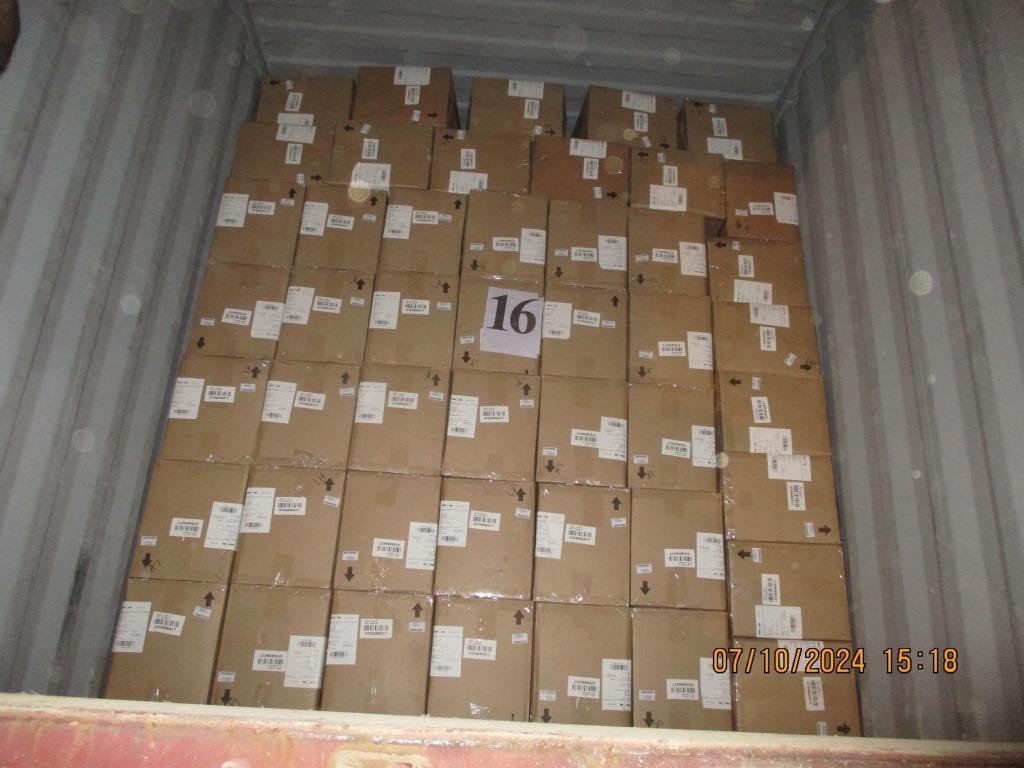carton: (104, 578, 227, 704), (210, 584, 330, 710), (128, 460, 248, 583), (231, 464, 345, 588), (320, 590, 433, 715), (425, 595, 532, 720), (331, 472, 441, 593), (726, 540, 851, 641), (531, 601, 631, 725), (432, 477, 535, 597), (631, 607, 732, 729), (531, 482, 630, 604), (158, 354, 268, 463), (629, 487, 726, 609), (730, 645, 860, 736), (254, 358, 359, 468), (346, 363, 450, 473), (719, 452, 841, 544), (441, 369, 540, 481), (533, 375, 627, 487), (275, 266, 376, 365), (185, 263, 288, 359), (626, 383, 717, 490), (714, 372, 830, 454), (363, 271, 459, 368), (451, 277, 544, 374), (208, 176, 306, 266), (538, 283, 628, 379), (292, 185, 387, 272), (460, 189, 548, 282), (377, 185, 467, 275), (712, 301, 820, 376), (627, 292, 714, 385), (544, 199, 628, 290), (706, 235, 808, 305), (627, 207, 708, 295), (327, 121, 434, 187), (628, 146, 724, 218), (530, 134, 630, 202), (349, 65, 457, 127), (428, 127, 531, 192), (228, 121, 333, 184), (720, 160, 800, 242), (573, 84, 677, 146), (678, 98, 778, 161), (467, 75, 564, 136), (255, 73, 353, 127)
